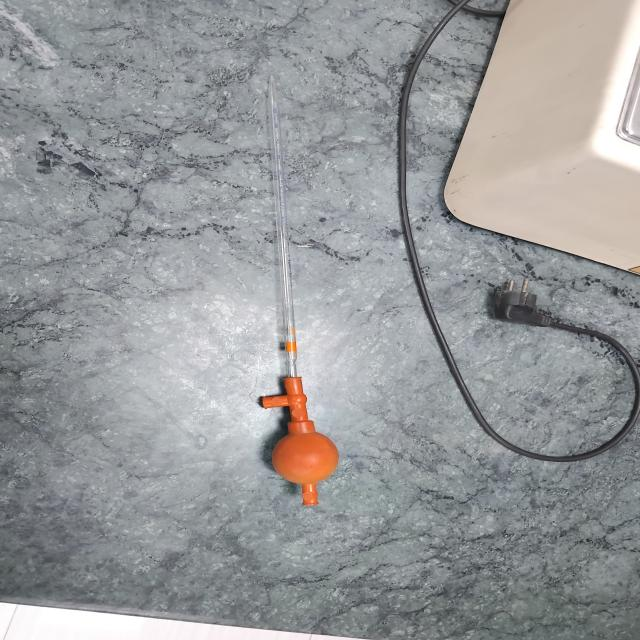Volumetric_Pipet: (204, 54, 397, 528)
